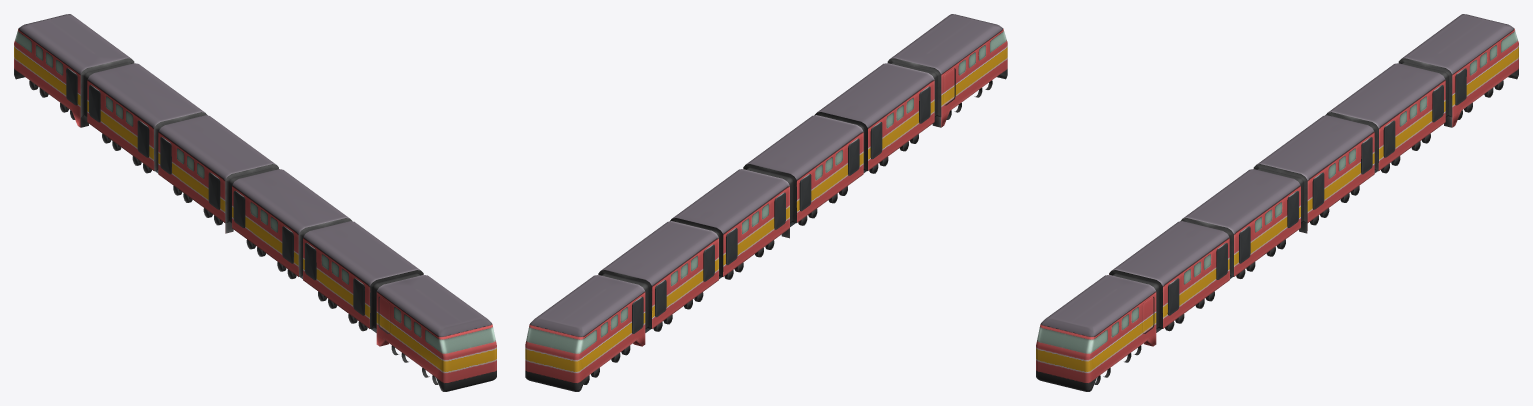
Rendered from Train.gltf.
3 views of the same model, side by side, from view 1: azimuth 30°, elevation 25°; view 2: azimuth 150°, elevation 25°; view 3: azimuth 330°, elevation 25° (orthographic).
Parts seen in each view (by area): view 1: Train; view 2: Train; view 3: Train.
Part boxes in pixels (x1,y1,x2,y2): Train: (14, 14, 496, 391); Train: (525, 14, 1007, 391); Train: (1036, 14, 1518, 391).
Bounding box in the file's own units: 4.66 × 4.85 × 62.4.
